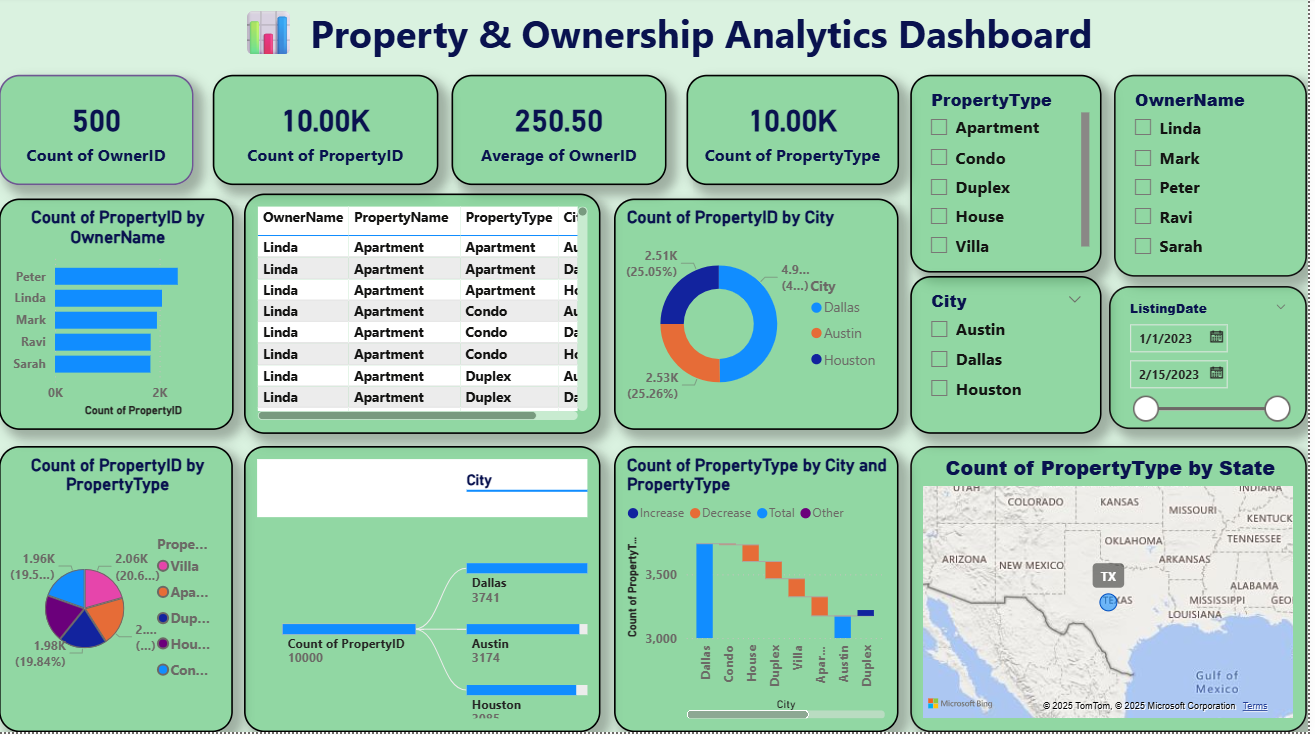

This screenshot's page, from the dashboard's own definition file:
{"tool":"powerbi","page":{"name":"Page 9","canvas":[1280,720],"ordinal":8},"visuals":[{"type":"card","fields":{"Values":["Avg(Owners.OwnerID)"]},"box":[442.9,76.5,210.6,108.2],"z":0},{"type":"card","fields":{"Values":["CountNonNull(Properties.PropertyType)"]},"box":[672.3,76.5,207.8,108.2],"z":1},{"type":"card","fields":{"Values":["CountNonNull(Owners.OwnerID)"]},"box":[0,76.5,190.4,108.2],"z":2},{"type":"card","fields":{"Values":["CountNonNull(Properties.PropertyID)"]},"box":[209.2,76.5,220.7,108.2],"z":3},{"type":"barChart","fields":{"Category":["Owners.OwnerName"],"Y":["CountNonNull(Properties.PropertyID)"]},"box":[0,197.7,229.4,226.5],"z":4},{"type":"donutChart","fields":{"Category":["Properties.City"],"Y":["CountNonNull(Properties.PropertyID)"]},"box":[601.6,197.7,278.5,226.5],"z":5},{"type":"slicer","fields":{"Values":["Properties.PropertyType"]},"box":[891.6,76.5,187.6,193.3],"z":6},{"type":"slicer","fields":{"Values":["Owners.OwnerName"]},"box":[1090.7,76.5,189,197.7],"z":7},{"type":"tableEx","fields":{"Values":["Owners.OwnerName","Properties.PropertyName","Properties.PropertyType","Owners.City"]},"box":[239.5,193.3,349.1,235.2],"z":8},{"type":"textbox","box":[157.3,0,988.3,76.5],"z":9},{"type":"map","fields":{"Category":["Owners.State"],"Size":["CountNonNull(Properties.PropertyType)"]},"box":[891.6,440,388.1,279.9],"z":10},{"type":"slicer","fields":{"Values":["Owners.City"]},"box":[891.6,274.1,187.6,154.4],"z":11},{"type":"slicer","fields":{"Values":["Properties.ListingDate"]},"box":[1086.4,284.2,193.3,139.9],"z":12},{"type":"waterfallChart","fields":{"Breakdown":["Properties.PropertyType"],"Category":["Owners.City"],"Y":["CountNonNull(Properties.PropertyType)"]},"box":[601.6,440,278.5,279.9],"z":13},{"type":"decompositionTreeVisual","fields":{"Analyze":["Count(Properties.PropertyID)"],"ExplainBy":["Owners.City","Owners.OwnerName"]},"box":[239.5,440,349.1,279.9],"z":14},{"type":"pieChart","fields":{"Category":["Properties.PropertyType"],"Y":["CountNonNull(Properties.PropertyID)"]},"box":[0,440,229,280],"z":15}]}

Visuals, with their boxes in screenshot pixels (x1, y1, x2, y2), scaled from the page's 1280x720 canvas onto the 1315x735 screenshot:
card - Avg(Owners.OwnerID): {"left": 455, "top": 78, "right": 671, "bottom": 189}
card - CountNonNull(Properties.PropertyType): {"left": 691, "top": 78, "right": 904, "bottom": 189}
card - CountNonNull(Owners.OwnerID): {"left": 0, "top": 78, "right": 196, "bottom": 189}
card - CountNonNull(Properties.PropertyID): {"left": 215, "top": 78, "right": 442, "bottom": 189}
barChart - Owners.OwnerName x CountNonNull(Properties.PropertyID): {"left": 0, "top": 202, "right": 236, "bottom": 433}
donutChart - Properties.City x CountNonNull(Properties.PropertyID): {"left": 618, "top": 202, "right": 904, "bottom": 433}
slicer - Properties.PropertyType: {"left": 916, "top": 78, "right": 1109, "bottom": 275}
slicer - Owners.OwnerName: {"left": 1121, "top": 78, "right": 1314, "bottom": 280}
tableEx - Owners.OwnerName x Properties.PropertyName: {"left": 246, "top": 197, "right": 605, "bottom": 437}
textbox: {"left": 162, "top": 0, "right": 1177, "bottom": 78}
map - Owners.State x CountNonNull(Properties.PropertyType): {"left": 916, "top": 449, "right": 1314, "bottom": 734}
slicer - Owners.City: {"left": 916, "top": 280, "right": 1109, "bottom": 437}
slicer - Properties.ListingDate: {"left": 1116, "top": 290, "right": 1314, "bottom": 433}
waterfallChart - Properties.PropertyType x Owners.City: {"left": 618, "top": 449, "right": 904, "bottom": 734}
decompositionTreeVisual - Count(Properties.PropertyID) x Owners.City: {"left": 246, "top": 449, "right": 605, "bottom": 734}
pieChart - Properties.PropertyType x CountNonNull(Properties.PropertyID): {"left": 0, "top": 449, "right": 235, "bottom": 734}
